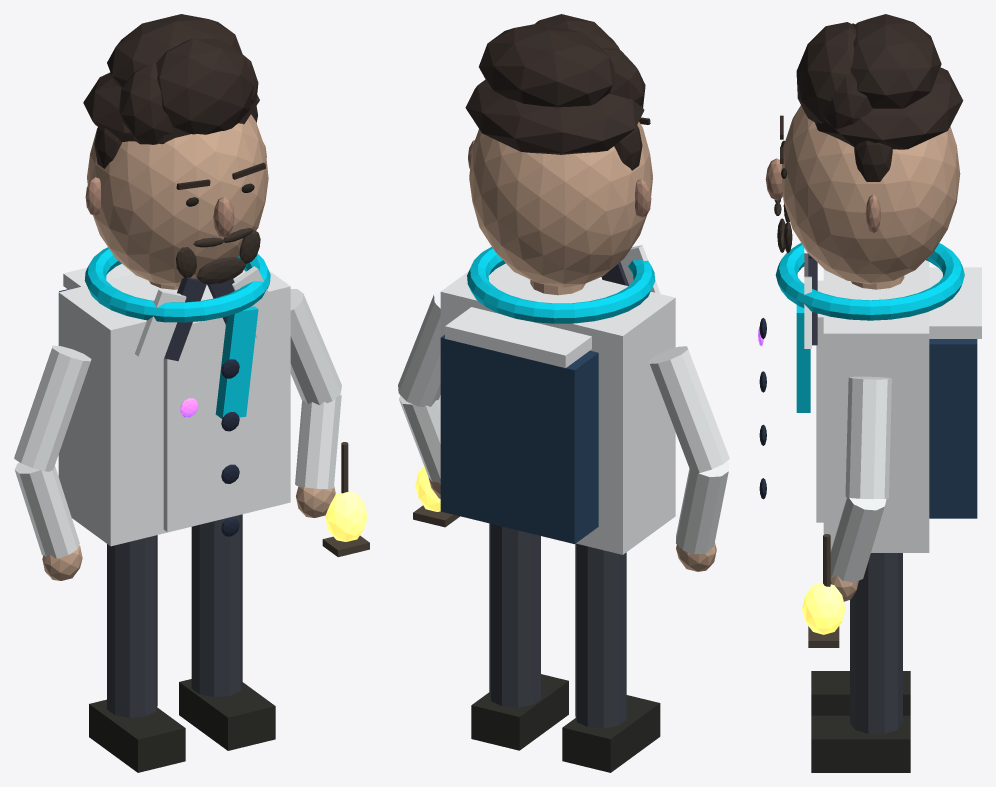
Rendered from ukm_stylized_winter_explorer.glb.
3 views of the same model, side by side, from view 1: azimuth 30°, elevation 25°; view 2: azimuth 150°, elevation 25°; view 3: azimuth 270°, elevation 25° (orthographic).
Parts seen in each view (by area): view 1: white_shirt_torso, head, shirt_front_panel, left_leg, right_leg, front_quiff_main, left_upper_arm, icy_scarf_ring, left_boot, right_boot, top_hair_volume, right_upper_arm (+16 smaller); view 2: midnight_laptop_backpack, white_shirt_torso, head, left_leg, right_leg, top_hair_volume, hair_cap_back, icy_scarf_ring, left_upper_arm, backpack_top_snow, left_boot, right_boot (+9 smaller); view 3: head, white_shirt_torso, right_leg, midnight_laptop_backpack, top_hair_volume, icy_scarf_ring, right_upper_arm, right_boot, hair_cap_back, front_quiff_main, right_lower_arm, backpack_top_snow (+13 smaller).
Part boxes in pixels (x1,y1,x2,y2): white_shirt_torso: (58,270,290,546); head: (87,114,268,286); shirt_front_panel: (163,317,241,531); left_leg: (107,535,157,717); right_leg: (191,514,242,697); front_quiff_main: (156,38,254,134); left_upper_arm: (14,345,91,471); icy_scarf_ring: (84,247,270,322); left_boot: (89,699,185,772); right_boot: (179,679,275,750); top_hair_volume: (107,14,242,88); right_upper_arm: (290,289,341,405); midnight_laptop_backpack: (440,335,598,544); white_shirt_torso: (440,263,675,554); head: (469,122,652,287); left_leg: (575,543,626,728); right_leg: (489,523,540,707); top_hair_volume: (479,23,615,107); hair_cap_back: (465,79,644,154); icy_scarf_ring: (467,247,655,323); left_upper_arm: (648,346,729,473); backpack_top_snow: (445,307,591,368); left_boot: (562,695,660,772); right_boot: (471,674,568,750); head: (781,105,960,284); white_shirt_torso: (823,260,929,552); right_leg: (850,553,902,733); midnight_laptop_backpack: (929,339,977,518); top_hair_volume: (850,14,941,108); icy_scarf_ring: (775,243,964,320); right_upper_arm: (845,376,891,499); right_boot: (811,715,910,772); hair_cap_back: (815,67,963,149); front_quiff_main: (796,22,856,123); right_lower_arm: (830,497,886,582); backpack_top_snow: (929,267,981,338).
Bounding box in the file's own units: 1.23 × 2.55 × 0.722.
